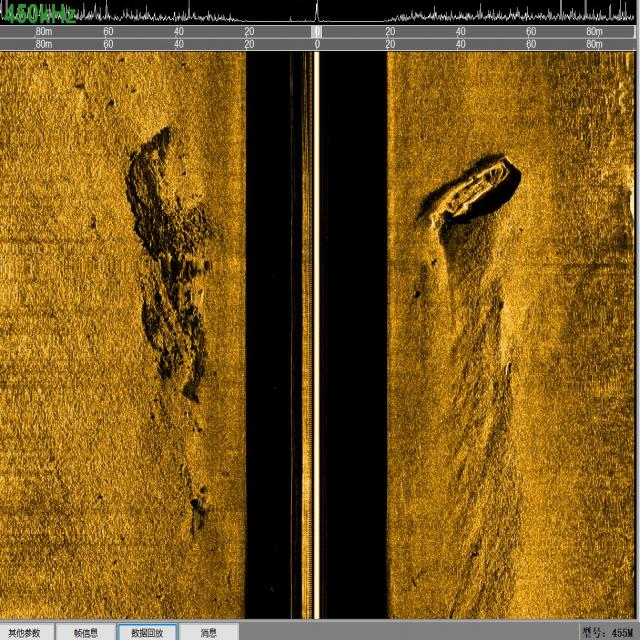ship: (429, 151, 515, 228)
